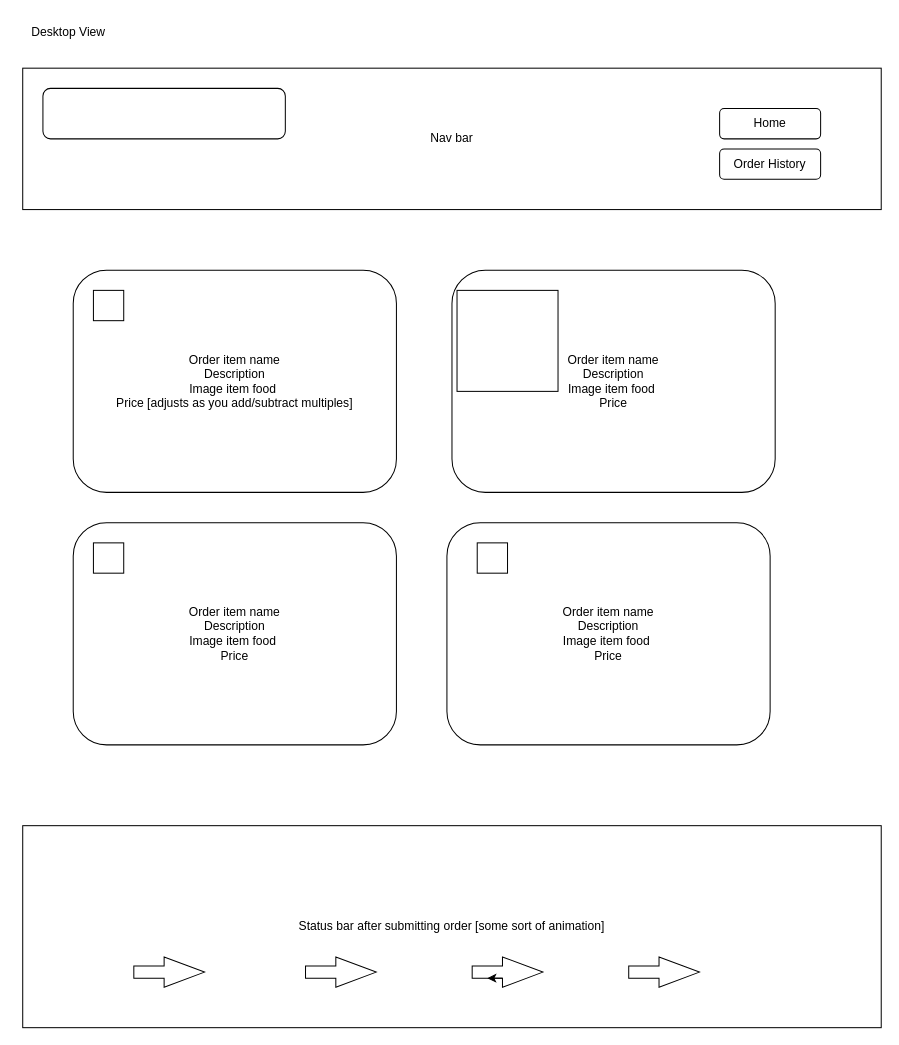
Image size: 899x1045. Some labels were removed from this diagram. The centre of each missing label's shape, as x and y in pixels:
"Add" belongs at point 108,305.
"ADD/SUBTRACT depending on design" belongs at point 507,340.
"Logged in as..." belongs at point 163,113.
